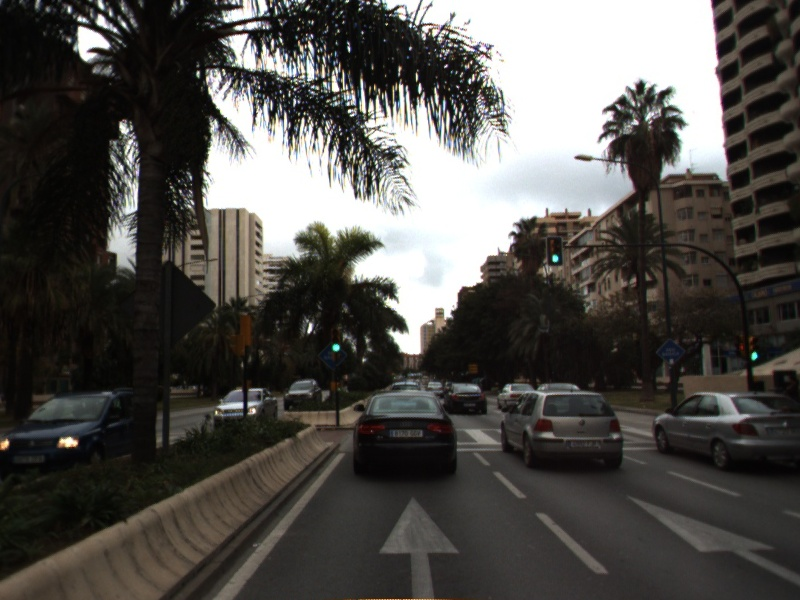STRAIGHT: (624, 493, 800, 584), (375, 492, 463, 600)
